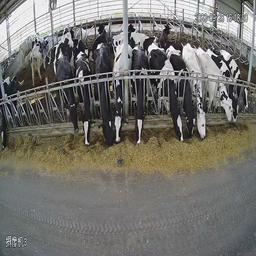cow: (149, 45, 184, 143), (92, 44, 115, 146), (206, 41, 232, 127), (111, 42, 132, 145), (194, 45, 215, 141), (54, 56, 77, 137), (132, 39, 147, 145), (78, 50, 94, 145), (183, 43, 196, 136), (236, 48, 251, 109), (32, 35, 50, 79)
